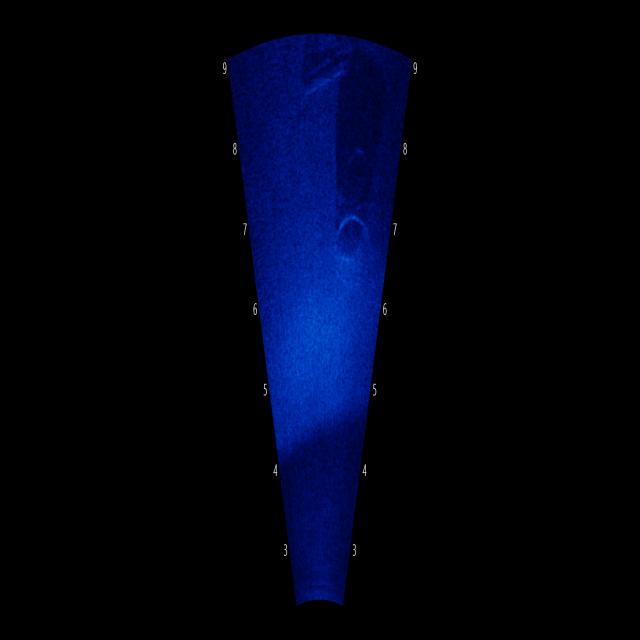circle: (323, 202, 371, 294)
